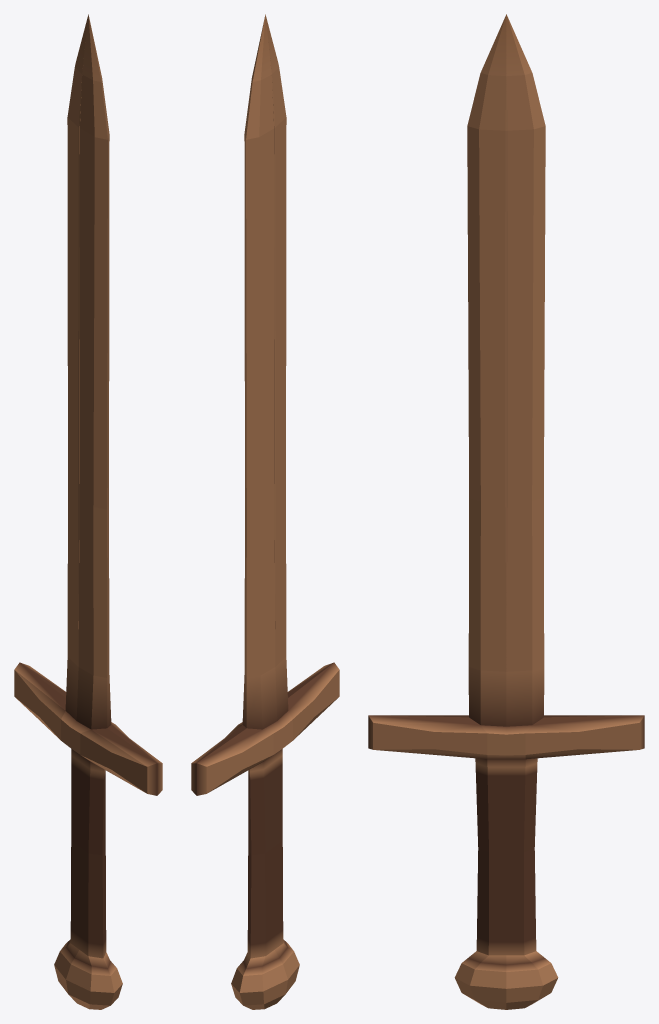
File: woodenSword.fbx
3 views of the same model, side by side, from view 1: azimuth 30°, elevation 25°; view 2: azimuth 150°, elevation 25°; view 3: azimuth 270°, elevation 25° (orthographic).
Visible parts, largest first — view 1: Plane; view 2: Plane; view 3: Plane.
Part boxes in pixels (box(x1,y1,x2,y2)): Plane: box(14, 14, 162, 1009); Plane: box(191, 14, 339, 1009); Plane: box(368, 14, 644, 1009).
Bounding box in the file's own units: 29.2 × 613 × 154.
